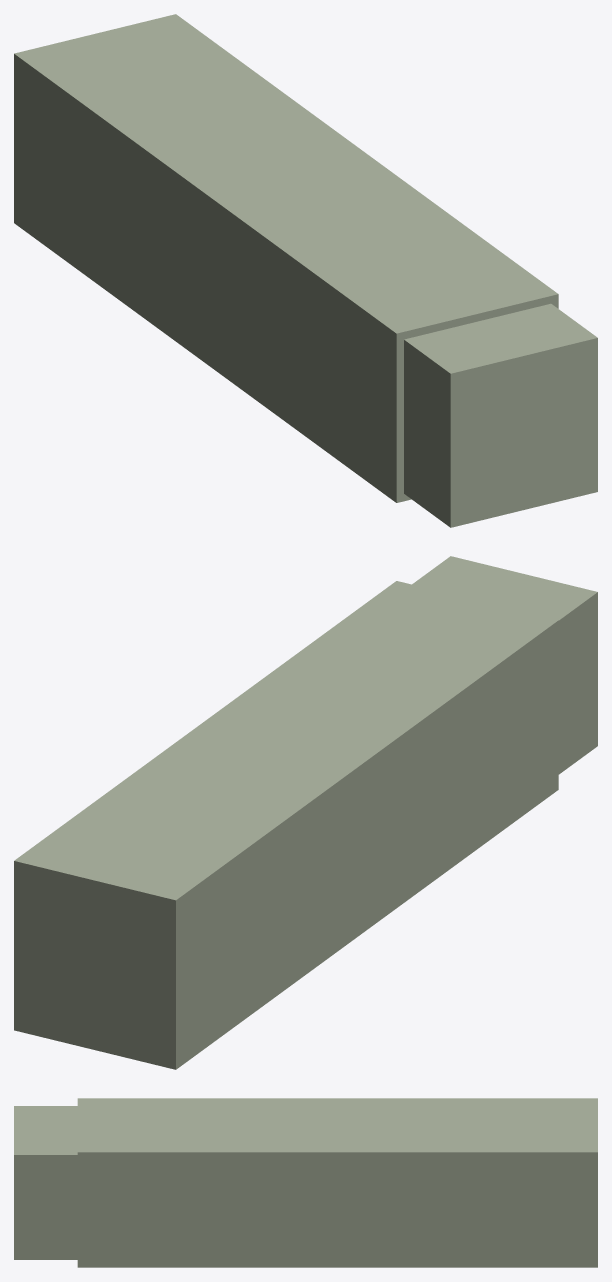
Rendered from zarm.glb.
3 renders of one model, top to bottom at view 1: azimuth 30°, elevation 25°; view 2: azimuth 150°, elevation 25°; view 3: azimuth 270°, elevation 25°, orthographic. The views are drawn at different scales.
Parts seen in each view (by area): view 1: zarm; view 2: zarm; view 3: zarm.
Boxes of the visible parts, box(x1,y1,x2,y2) form: zarm: box(14, 14, 597, 527); zarm: box(14, 556, 597, 1069); zarm: box(14, 1098, 597, 1267).
Size of the model in its own units: 0.22 by 0.22 by 1.01.
